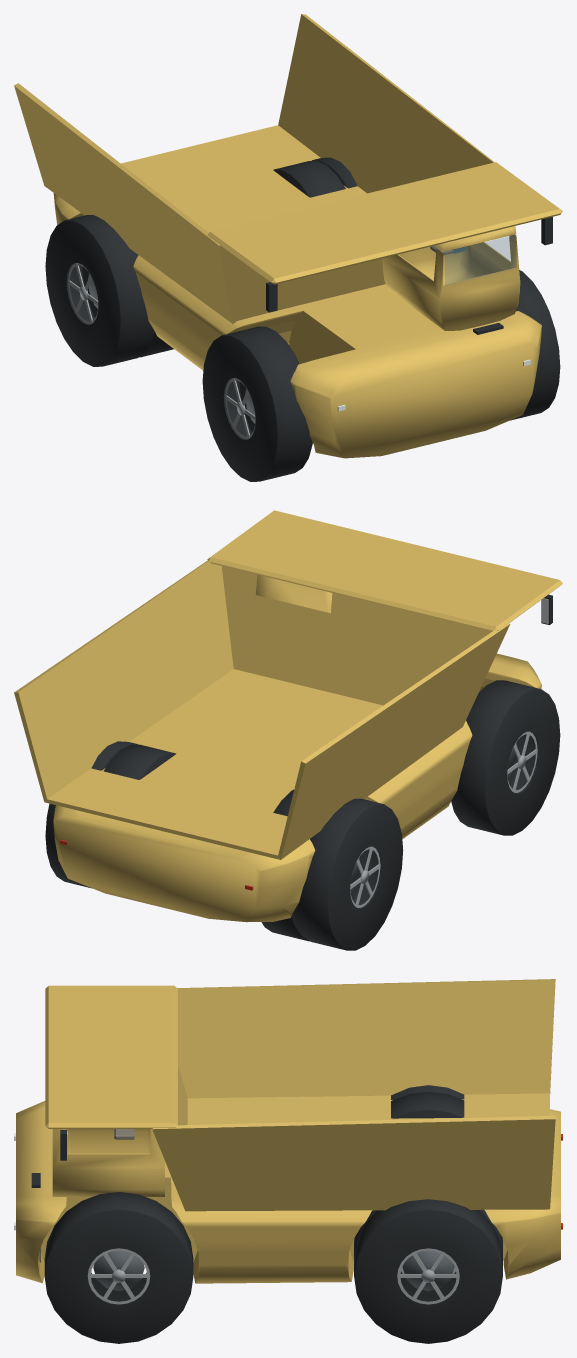
Rendered from fleet-mining.glb.
3 views of the same model, one above another, from view 1: azimuth 30°, elevation 25°; view 2: azimuth 150°, elevation 25°; view 3: azimuth 270°, elevation 25° (orthographic).
Visible parts, largest first — view 1: Surface_CarRoot_Paint, Body, WheelFrontR_Tyre, Surface_WheelRearR_Tyre, CabShell, WheelFrontL_Tyre, GlassWindshield, Surface_WheelRearL_Tyre, Surface_WheelFrontR_Rim, Surface_WheelRearR_Rim; view 2: Surface_CarRoot_Paint, Body, Surface_WheelRearR_Tyre, WheelFrontR_Tyre, Surface_WheelRearL_Tyre, CabShell, Surface_WheelFrontR_Rim, Surface_WheelRearR_Rim; view 3: Surface_CarRoot_Paint, Body, WheelFrontL_Tyre, Surface_WheelRearL_Tyre, CabShell, Surface_WheelRearR_Tyre, Surface_WheelRearL_Rim, Surface_WheelFrontL_Rim, WheelFrontL_BrakeDisc, Surface_WheelRearL_BrakeDisc.
Boxes of the visible parts, x1,y1,x2,y2 form: Surface_CarRoot_Paint: [14, 14, 562, 323]; Body: [53, 193, 541, 458]; WheelFrontR_Tyre: [202, 326, 312, 481]; Surface_WheelRearR_Tyre: [45, 215, 173, 366]; CabShell: [382, 226, 520, 330]; WheelFrontL_Tyre: [510, 270, 560, 420]; GlassWindshield: [445, 235, 515, 285]; Surface_WheelRearL_Tyre: [273, 157, 357, 197]; Surface_WheelFrontR_Rim: [225, 378, 255, 439]; Surface_WheelRearR_Rim: [68, 263, 98, 324]; Surface_CarRoot_Paint: [14, 510, 562, 859]; Body: [53, 653, 541, 922]; Surface_WheelRearR_Tyre: [261, 789, 403, 950]; WheelFrontR_Tyre: [451, 680, 560, 835]; Surface_WheelRearL_Tyre: [45, 741, 176, 888]; CabShell: [255, 574, 332, 613]; Surface_WheelFrontR_Rim: [507, 731, 537, 792]; Surface_WheelRearR_Rim: [350, 846, 380, 907]; Surface_CarRoot_Paint: [45, 979, 555, 1211]; Body: [16, 1101, 560, 1283]; WheelFrontL_Tyre: [44, 1192, 193, 1343]; Surface_WheelRearL_Tyre: [354, 1199, 502, 1343]; CabShell: [52, 1129, 164, 1196]; Surface_WheelRearR_Tyre: [391, 1085, 464, 1118]; Surface_WheelRearL_Rim: [397, 1248, 459, 1304]; Surface_WheelFrontL_Rim: [87, 1248, 150, 1304]; WheelFrontL_BrakeDisc: [93, 1250, 144, 1291]; Surface_WheelRearL_BrakeDisc: [403, 1250, 453, 1291].
Size of the model in its own units: 9 by 6.84 by 14.9.
